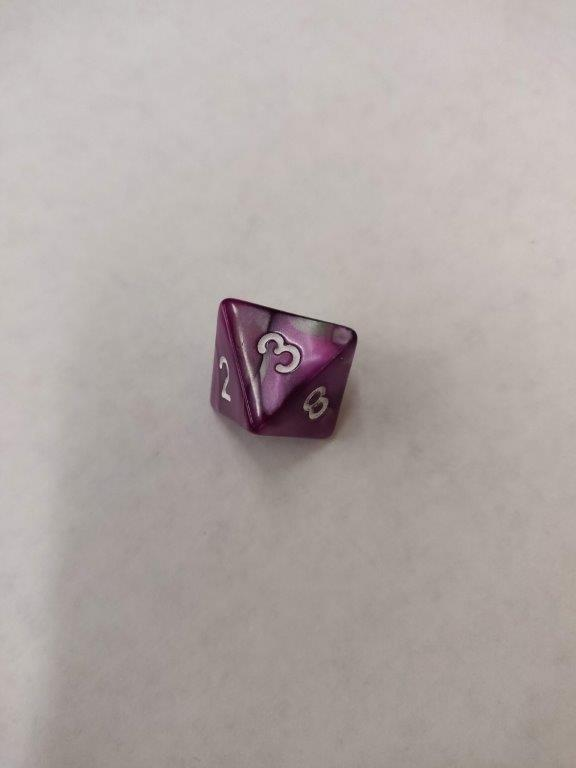d8-3: (208, 298, 360, 441)
